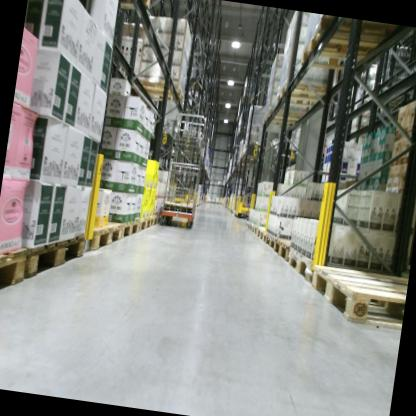pallet: (306, 258, 409, 329), (15, 222, 87, 285), (299, 28, 379, 75), (314, 15, 414, 49), (273, 76, 332, 115), (126, 73, 189, 105), (0, 243, 28, 302), (83, 219, 123, 253), (285, 246, 317, 283), (261, 108, 308, 130), (105, 0, 152, 15), (272, 238, 293, 262), (117, 218, 138, 241), (262, 232, 279, 252), (137, 215, 152, 233), (149, 213, 163, 229), (256, 227, 268, 243), (251, 222, 259, 235), (246, 220, 254, 231)
